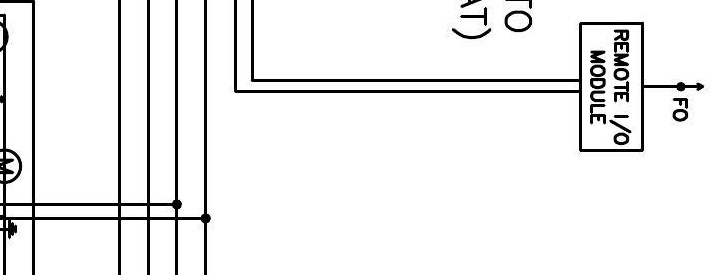remote_io_module: (579, 21, 644, 152)
